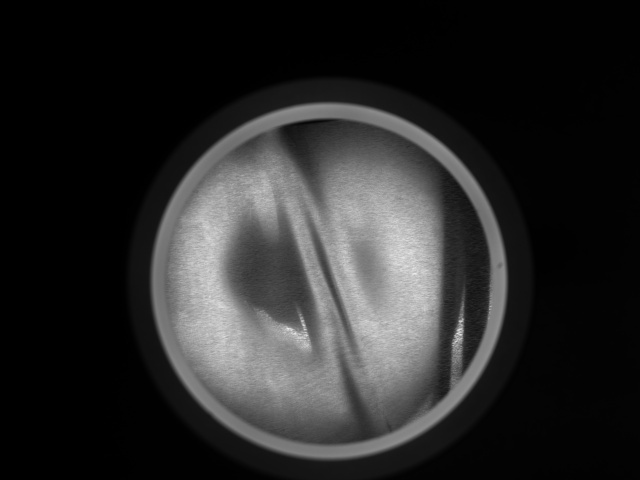zhe_zhou: (212, 144, 446, 414)
